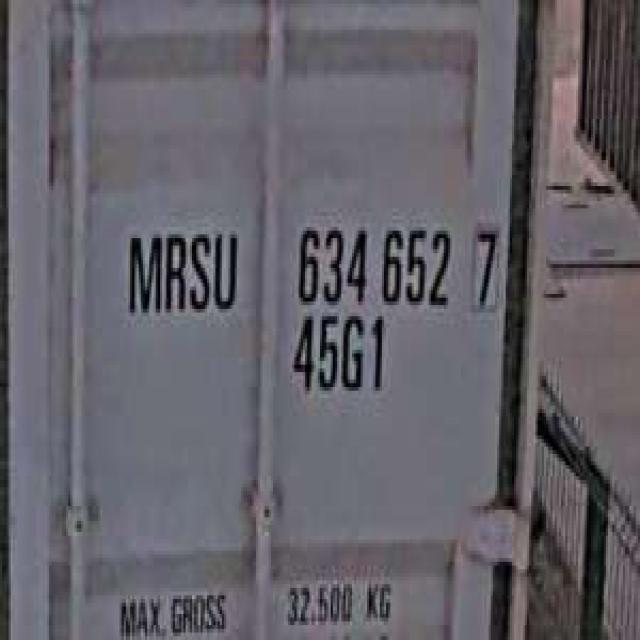dv: (465, 216, 504, 316)
owner: (120, 212, 243, 328)
serial: (288, 208, 454, 312)
size: (286, 305, 390, 406)
